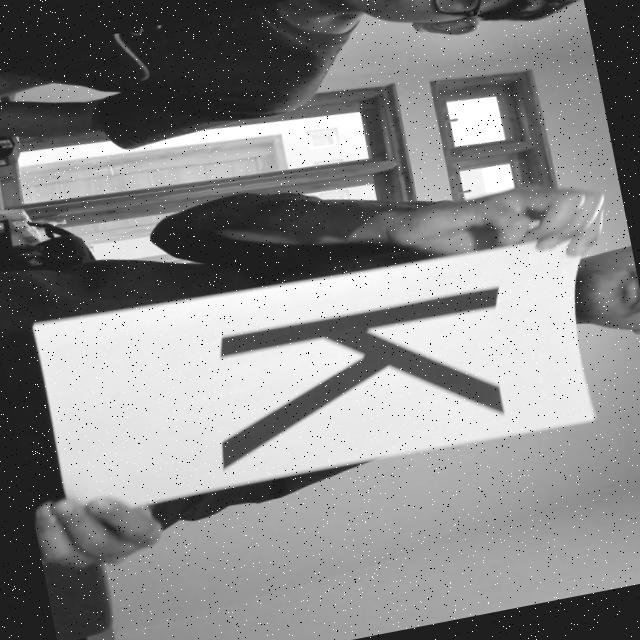k: (173, 258, 543, 484)
